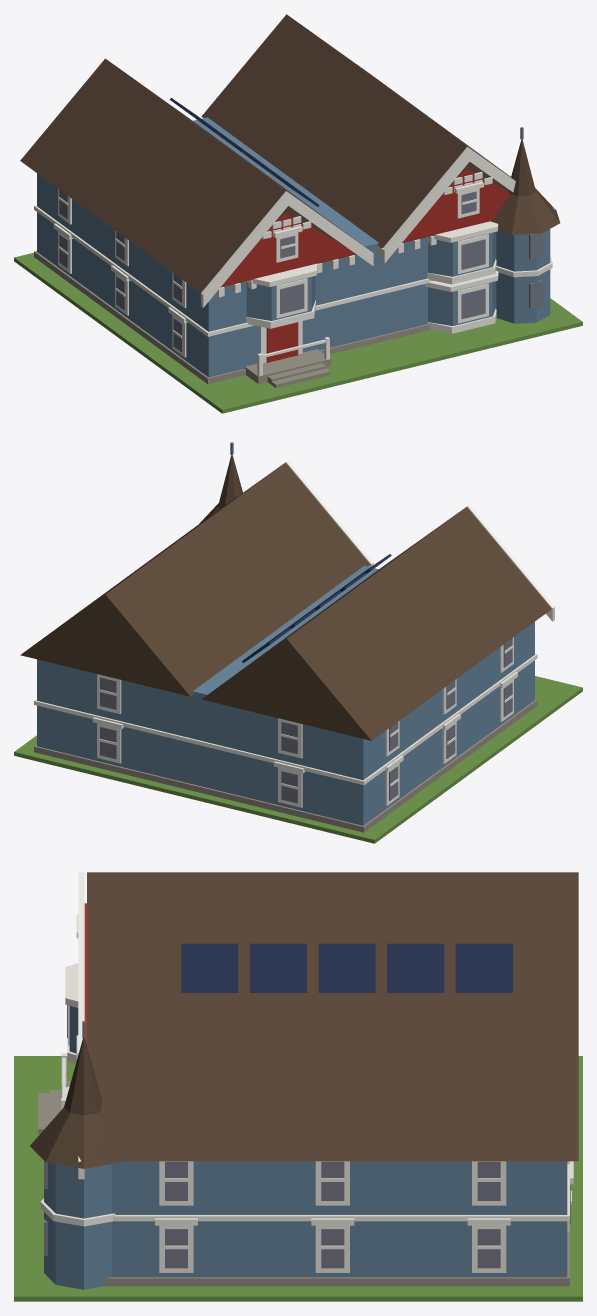
File: house-2x2-2f-victorian-a-solar.glb
The picture shows the model from 3 angles, top to bottom: view 1: azimuth 30°, elevation 25°; view 2: azimuth 150°, elevation 25°; view 3: azimuth 270°, elevation 25°; orthographic projection. The views are drawn at different scales.
Parts seen in each view (by area): view 1: house-2x2-2f-victorian-a-solar; view 2: house-2x2-2f-victorian-a-solar; view 3: house-2x2-2f-victorian-a-solar.
Part boxes in pixels (x1,y1,x2,y2): house-2x2-2f-victorian-a-solar: (14, 14, 582, 413); house-2x2-2f-victorian-a-solar: (14, 442, 582, 843); house-2x2-2f-victorian-a-solar: (14, 872, 582, 1301).
Bounding box in the file's own units: 1.99 × 0.99 × 1.99.
Materials: 1 (1 with a texture image).
